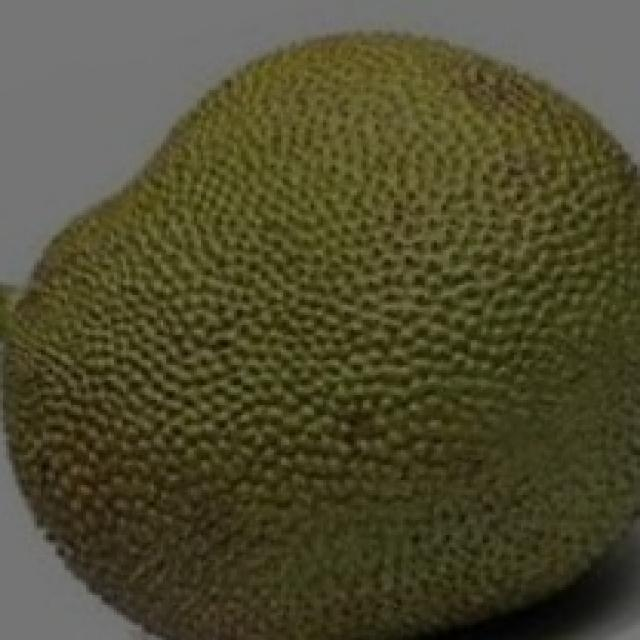Fruit: (0, 307, 378, 640), (237, 3, 640, 305)
